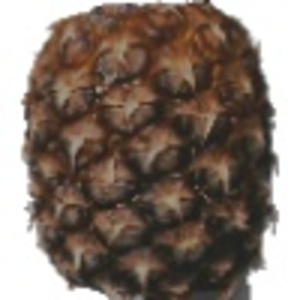abacaxi: (18, 3, 284, 295)
